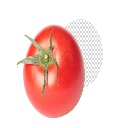tomato: (24, 24, 84, 118)
